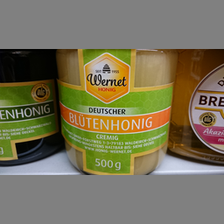honey: (57, 49, 179, 176)
